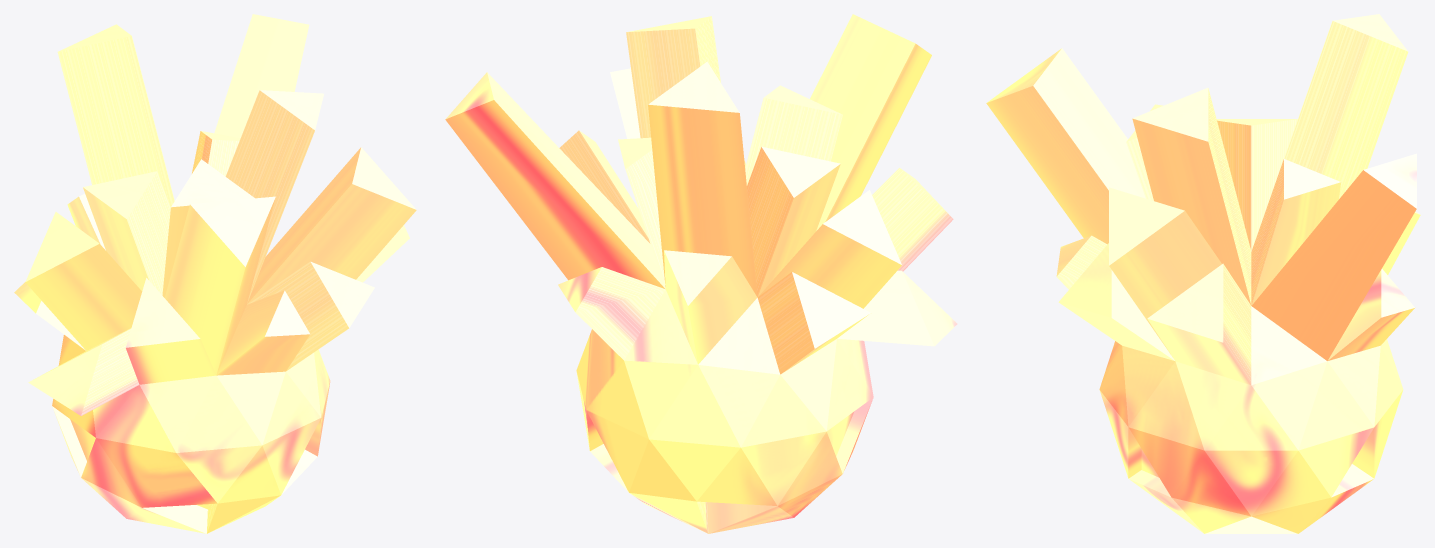
The model's file is cometa.gltf.
3 views of the same model, side by side, from view 1: azimuth 30°, elevation 25°; view 2: azimuth 150°, elevation 25°; view 3: azimuth 270°, elevation 25° (orthographic). The views are drawn at different scales.
Visible parts, largest first — view 1: Icosphere.001; view 2: Icosphere.001; view 3: Icosphere.001.
Part boxes in pixels (left/top/right/bottom): Icosphere.001: left=14, top=14, right=416, bottom=533; Icosphere.001: left=445, top=14, right=957, bottom=533; Icosphere.001: left=986, top=14, right=1420, bottom=533.
Bounding box in the file's own units: 5.76 × 6.8 × 5.41.
